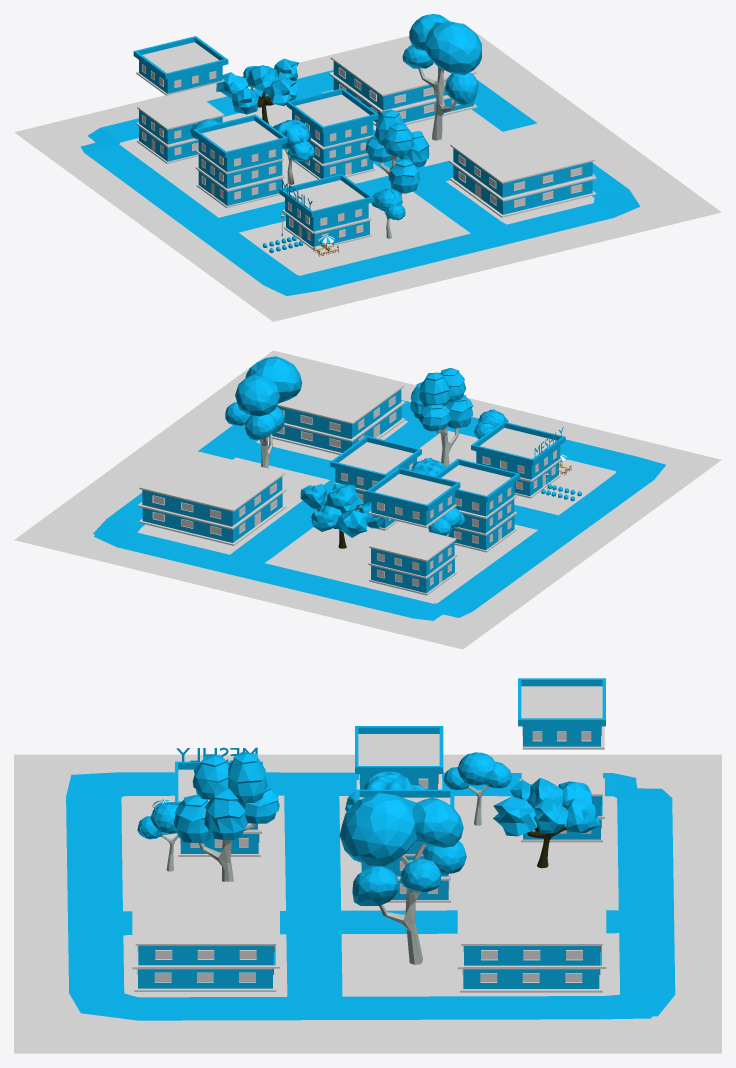
File: heroPage.glb
3 views of the same model, one above another, from view 1: azimuth 30°, elevation 25°; view 2: azimuth 150°, elevation 25°; view 3: azimuth 270°, elevation 25° (orthographic). The views are drawn at different scales.
Parts seen in each view (by area): view 1: Plane, Plane.003, Cube.013, Cube.008, Cube.014, Cube.020, tree.002_green_0, tree.006_wood_0, Cube.007, Cube.005, Cube.015, Cube.006 (+9 smaller); view 2: Plane, Plane.003, Cube.014, Cube.013, Cube.008, tree.002_green_0, tree.006_wood_0, Cube.020, Cube.007, Cube.005, Cube.015, Cube.006 (+9 smaller); view 3: Plane, Plane.003, Cube.014, Cube.013, tree.002_green_0, tree.006_wood_0, Cube.008, Cube.005, Cube.006, Cube.007, Cube.020, tree.004 (+7 smaller).
Boxes of the visible parts, box(x1,y1,x2,y2) form: Plane: box(14, 23, 721, 321); Plane.003: box(81, 70, 640, 295); Cube.013: box(448, 122, 596, 217); Cube.008: box(193, 114, 287, 208); Cube.014: box(328, 38, 477, 126); Cube.020: box(286, 88, 378, 179); tree.002_green_0: box(402, 14, 481, 140); tree.006_wood_0: box(365, 109, 429, 195); Cube.007: box(136, 93, 224, 146); Cube.005: box(133, 36, 228, 95); Cube.015: box(279, 174, 373, 233); Cube.006: box(142, 42, 218, 72); Plane: box(14, 350, 721, 649); Plane.003: box(93, 400, 665, 620); Cube.014: box(137, 449, 286, 545); Cube.013: box(268, 362, 405, 454); Cube.008: box(434, 458, 519, 552); tree.002_green_0: box(225, 356, 302, 468); tree.006_wood_0: box(410, 368, 472, 467); Cube.020: box(330, 435, 421, 530); Cube.007: box(368, 524, 456, 578); Cube.005: box(365, 467, 460, 527); Cube.015: box(471, 421, 565, 481); Cube.006: box(375, 474, 451, 504); Plane: box(14, 754, 721, 1053); Plane.003: box(66, 772, 675, 1020); Cube.014: box(457, 881, 606, 992); Cube.013: box(132, 881, 279, 991); tree.002_green_0: box(339, 792, 466, 964); tree.006_wood_0: box(173, 751, 279, 881); Cube.008: box(355, 726, 443, 789); Cube.005: box(518, 678, 605, 749); Cube.006: box(521, 686, 602, 718); Cube.007: box(521, 756, 604, 818); Cube.020: box(356, 789, 454, 902); tree.004: box(443, 752, 511, 825).
Bounding box in the file's own units: 14.91 × 4.2 × 14.91.
26 materials, 1 textured.
